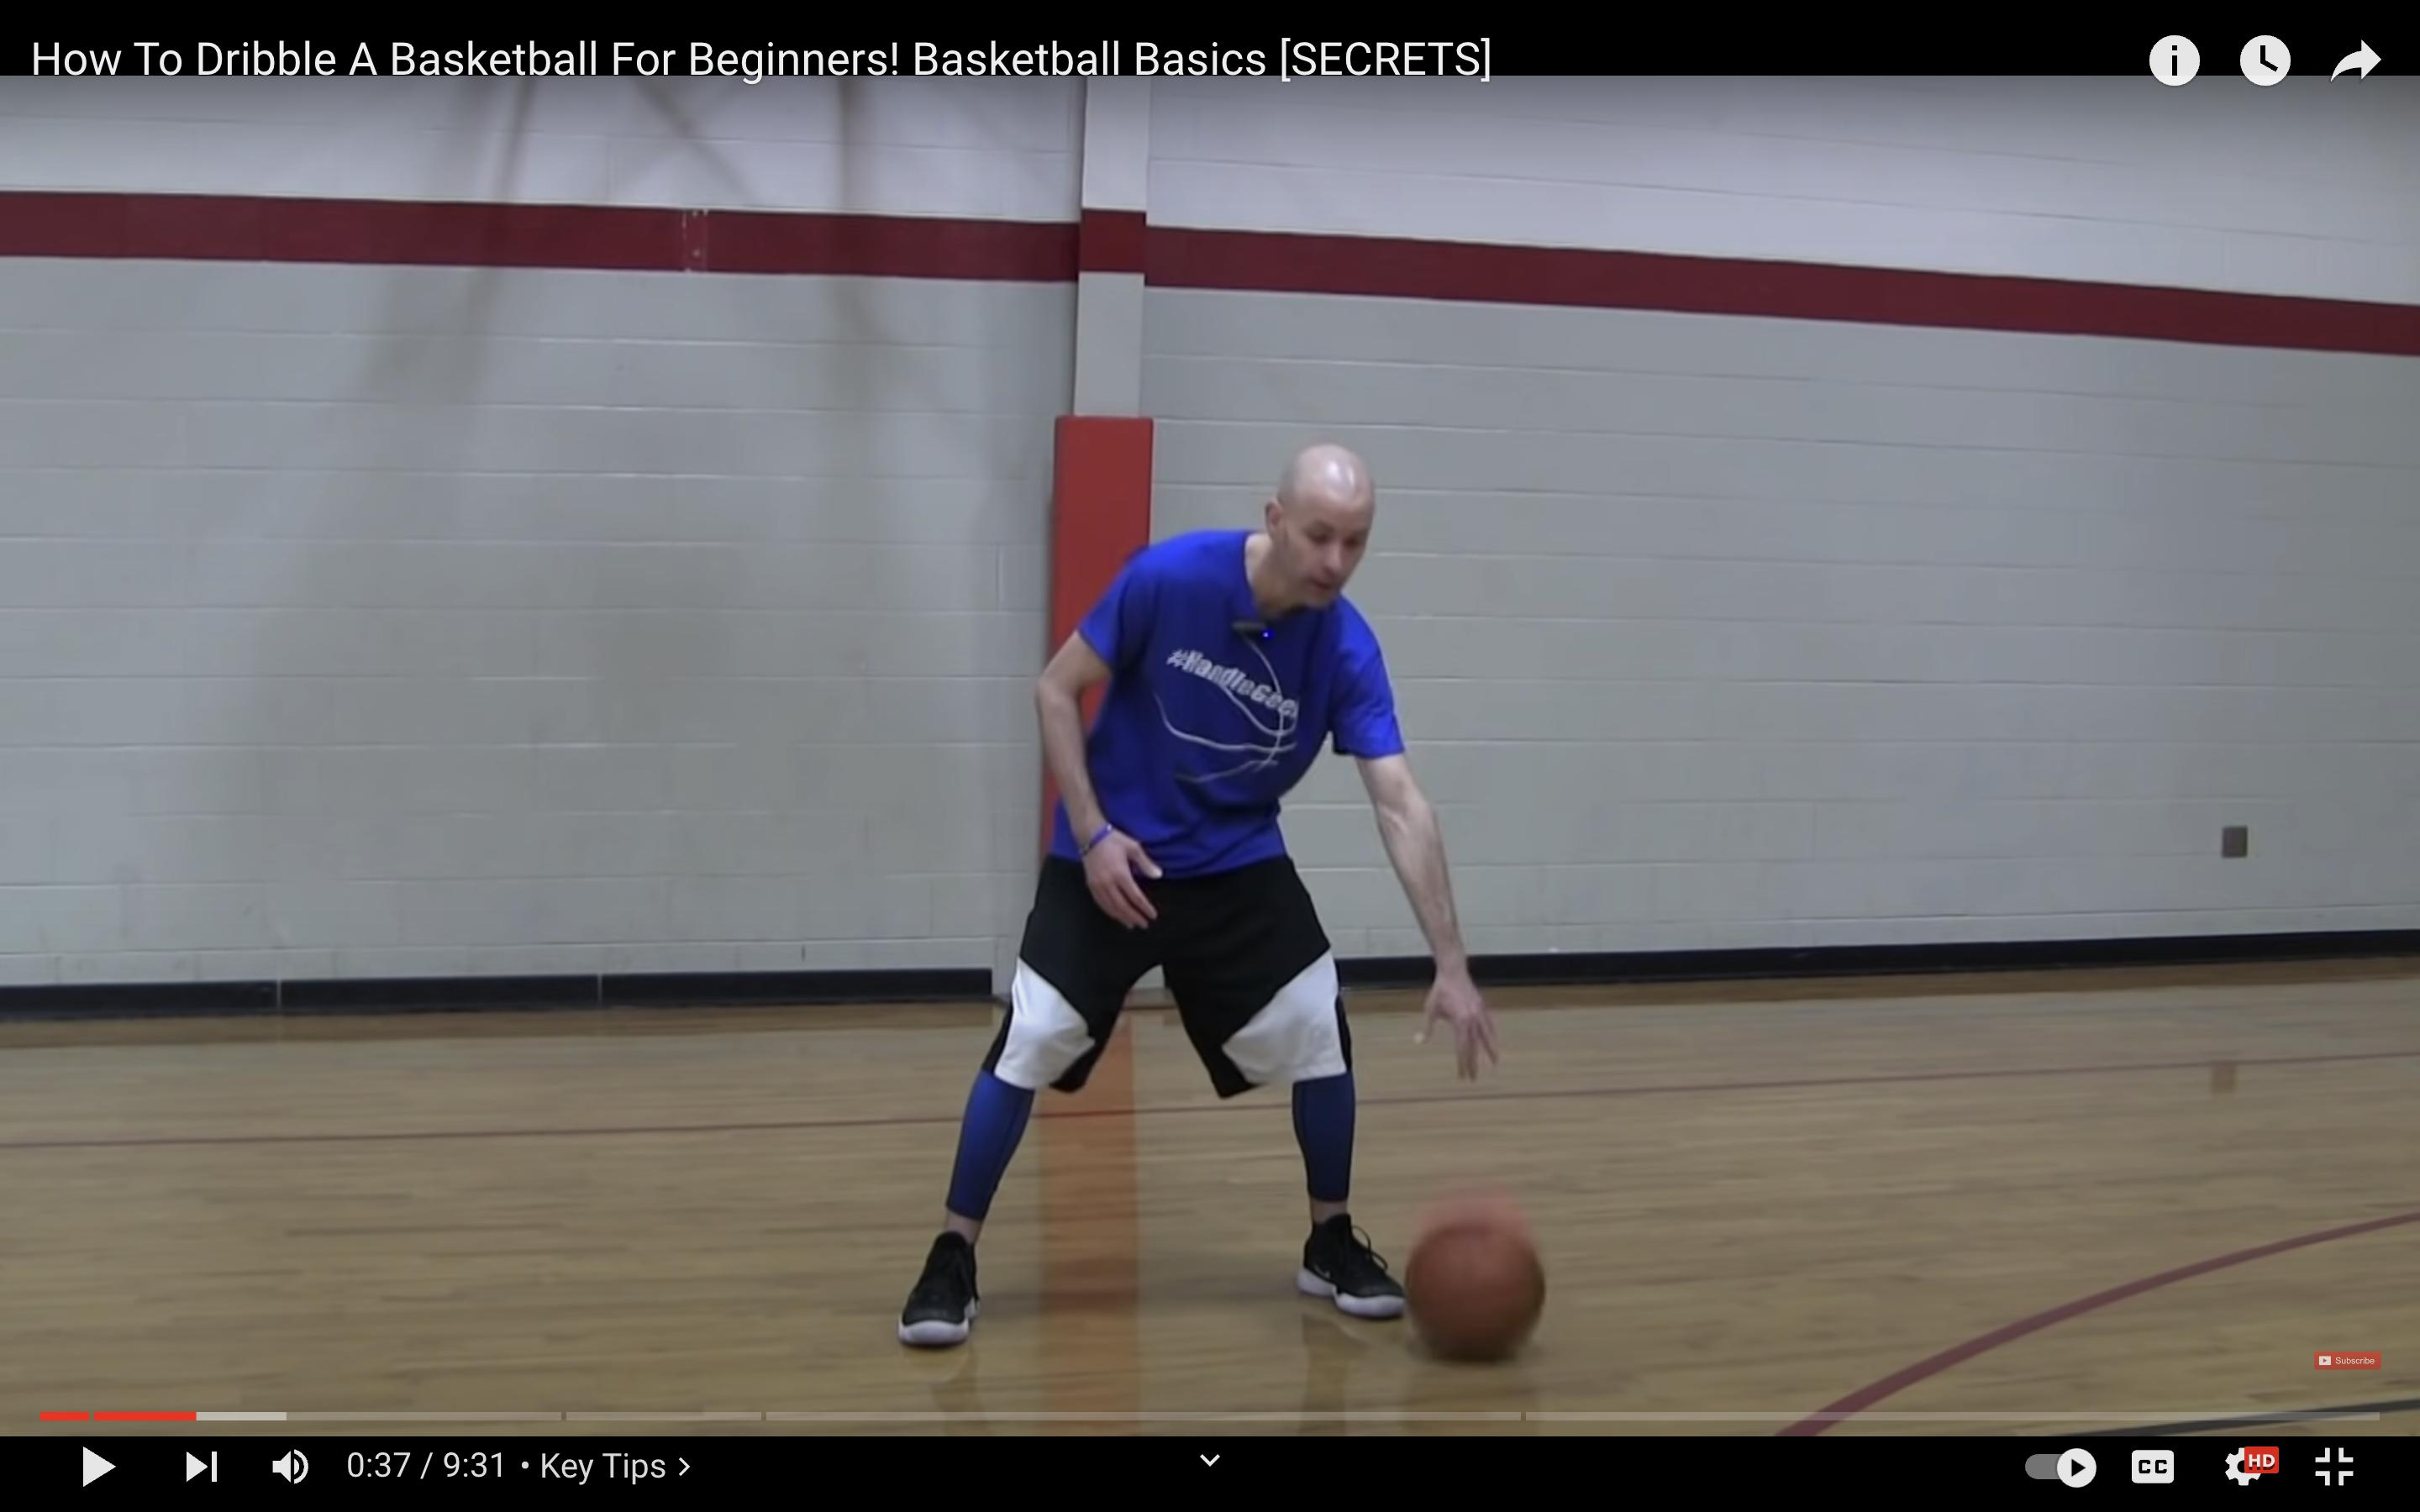Ball: (1402, 1211, 1549, 1354)
Dribble: (1417, 1335, 1539, 1380)
Person: (870, 434, 1569, 1347)
